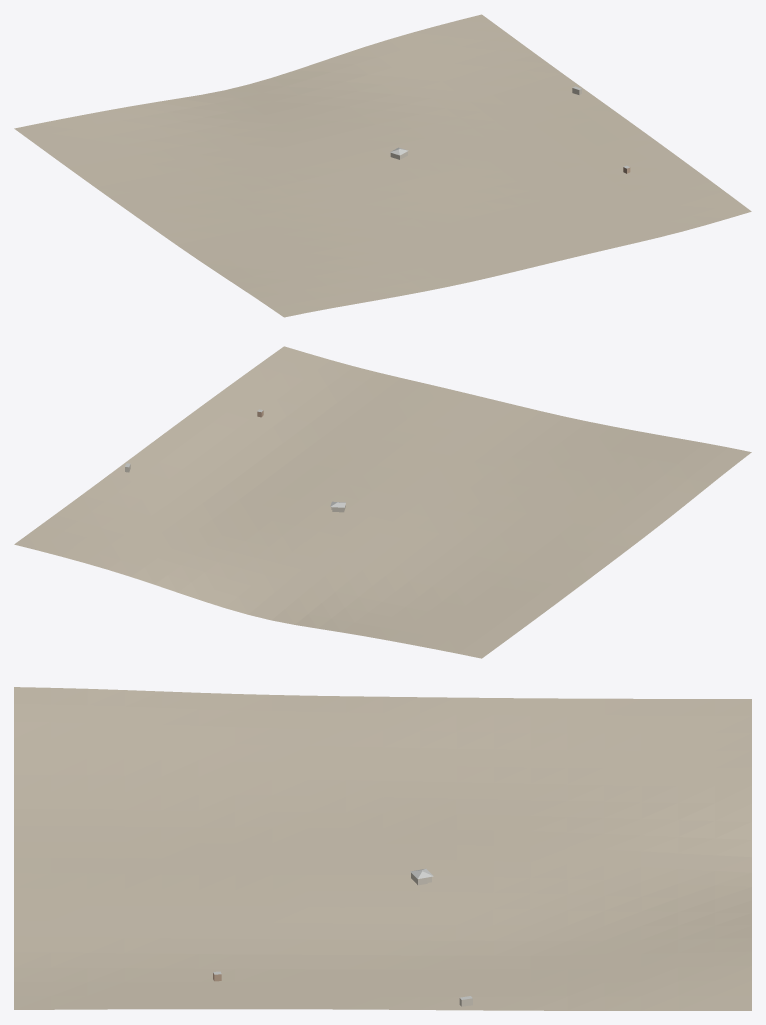
Rendered from bolak_-24_4.glb.
3 views of the same model, one above another, from view 1: azimuth 30°, elevation 25°; view 2: azimuth 150°, elevation 25°; view 3: azimuth 270°, elevation 25° (orthographic). The views are drawn at different scales.
Visible parts, largest first — view 1: Yer_Tuproq-col; view 2: Yer_Tuproq-col; view 3: Yer_Tuproq-col.
Part boxes in pixels (box(x1,y1,x2,y2)): Yer_Tuproq-col: box(14, 14, 751, 317); Yer_Tuproq-col: box(14, 346, 751, 658); Yer_Tuproq-col: box(14, 687, 751, 1010).
Bounding box in the file's own units: 400 × 17.88 × 400.
